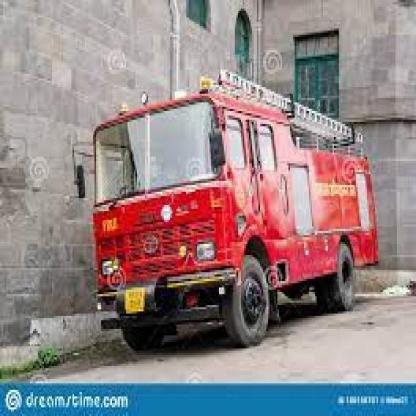priority: (70, 66, 384, 356)
